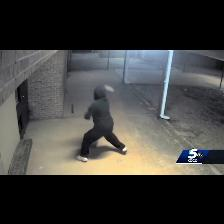person: (77, 85, 127, 162)
